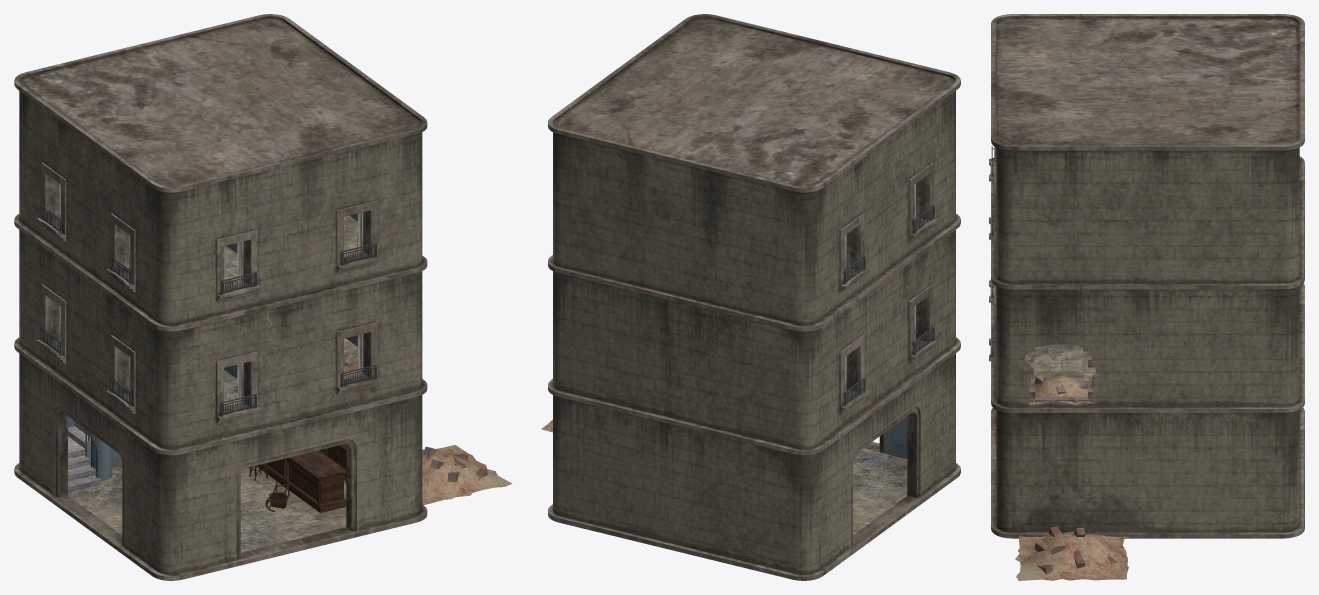
The model's file is municipality.glb.
3 renders of one model, left to right at view 1: azimuth 30°, elevation 25°; view 2: azimuth 150°, elevation 25°; view 3: azimuth 270°, elevation 25°, orthographic.
Visible parts, largest first — view 1: House, Pavement, Windows, Bar_Counter, Debris, Stairs, Wall; view 2: House, Pavement, Windows; view 3: House, Pavement, Debris, Stairs, Windows.
Boxes of the visible parts, box(x1,y1,x2,y2) form: House: box(19, 91, 422, 574); Pavement: box(14, 14, 427, 580); Windows: box(36, 162, 380, 558); Bar_Counter: box(257, 444, 346, 512); Debris: box(344, 354, 511, 504); Stairs: box(68, 215, 357, 493); Wall: box(92, 243, 237, 480); House: box(553, 91, 955, 574); Pavement: box(548, 14, 960, 580); Windows: box(839, 162, 938, 545); House: box(996, 147, 1299, 532); Pavement: box(991, 14, 1304, 538); Debris: box(1015, 343, 1129, 580); Stairs: box(1027, 344, 1095, 388); Windows: box(989, 146, 996, 365).
Bounding box in the file's own units: 12.16 × 12.59 × 9.12.
14 materials, 14 textured.
